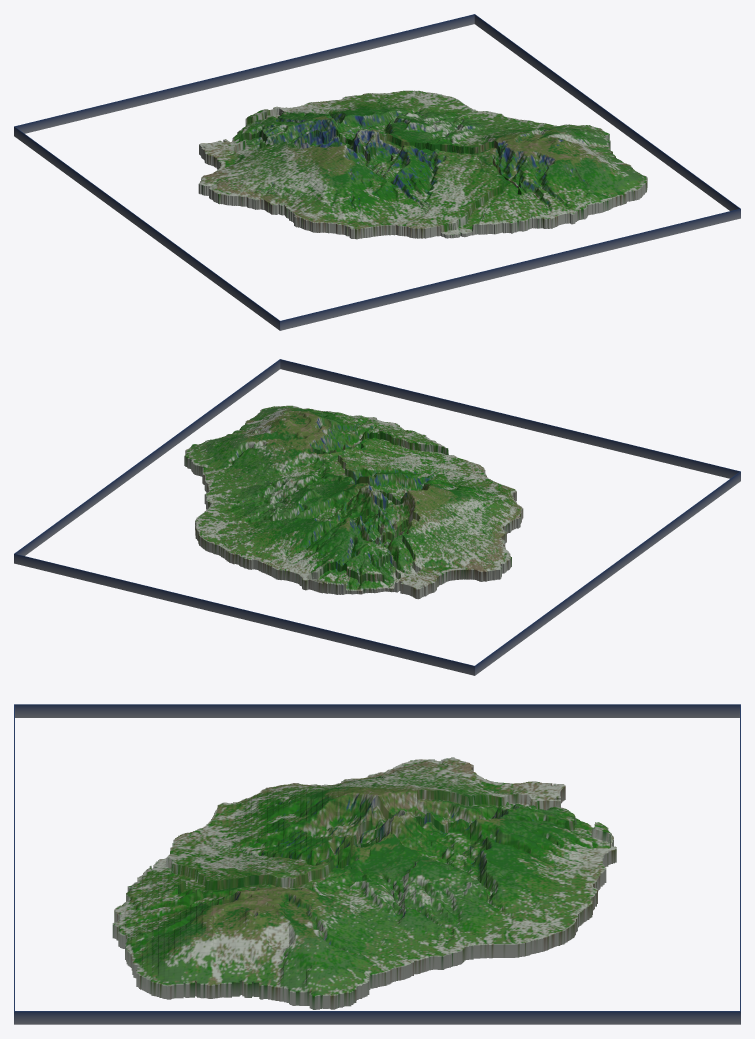
Rendered from model_land_only_gpx_recess.glb.
The picture shows the model from 3 angles, top to bottom: view 1: azimuth 30°, elevation 25°; view 2: azimuth 150°, elevation 25°; view 3: azimuth 270°, elevation 25°; orthographic projection. The views are drawn at different scales.
Parts seen in each view (by area): view 1: land_only_gpx_recess; view 2: land_only_gpx_recess; view 3: land_only_gpx_recess.
Boxes of the visible parts, x1,y1,x2,y2 form: land_only_gpx_recess: (14,14,740,330); land_only_gpx_recess: (14,359,740,675); land_only_gpx_recess: (14,704,740,1024).
Bounding box in the file's own units: 150 × 12.94 × 150.
